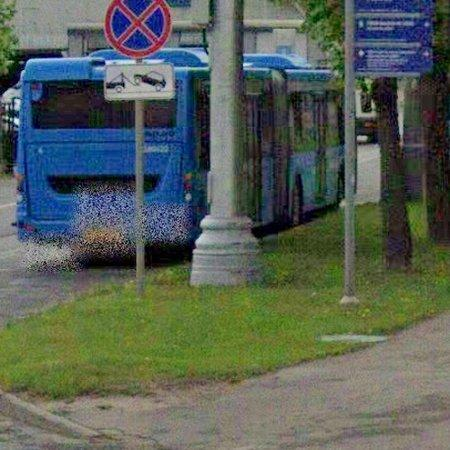buses: (17, 49, 134, 257), (243, 53, 343, 227), (145, 48, 210, 248)
